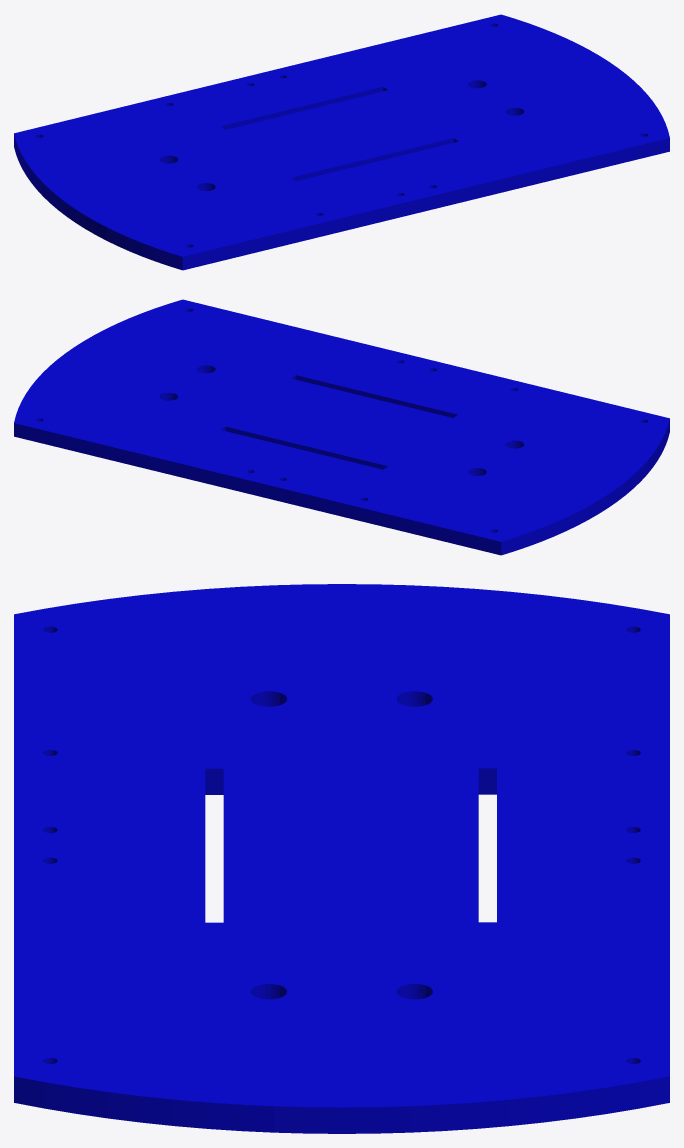
File: rodneyBase.dae
3 renders of one model, top to bottom at view 1: azimuth 30°, elevation 25°; view 2: azimuth 150°, elevation 25°; view 3: azimuth 270°, elevation 25°, orthographic. The views are drawn at different scales.
Parts seen in each view (by area): view 1: node0; view 2: node0; view 3: node0.
Boxes of the visible parts, bbox=[...] form: node0: bbox=[14, 14, 669, 270]; node0: bbox=[14, 299, 669, 555]; node0: bbox=[14, 584, 669, 1133].
Bounding box in the file's own units: 340 × 180 × 8.
